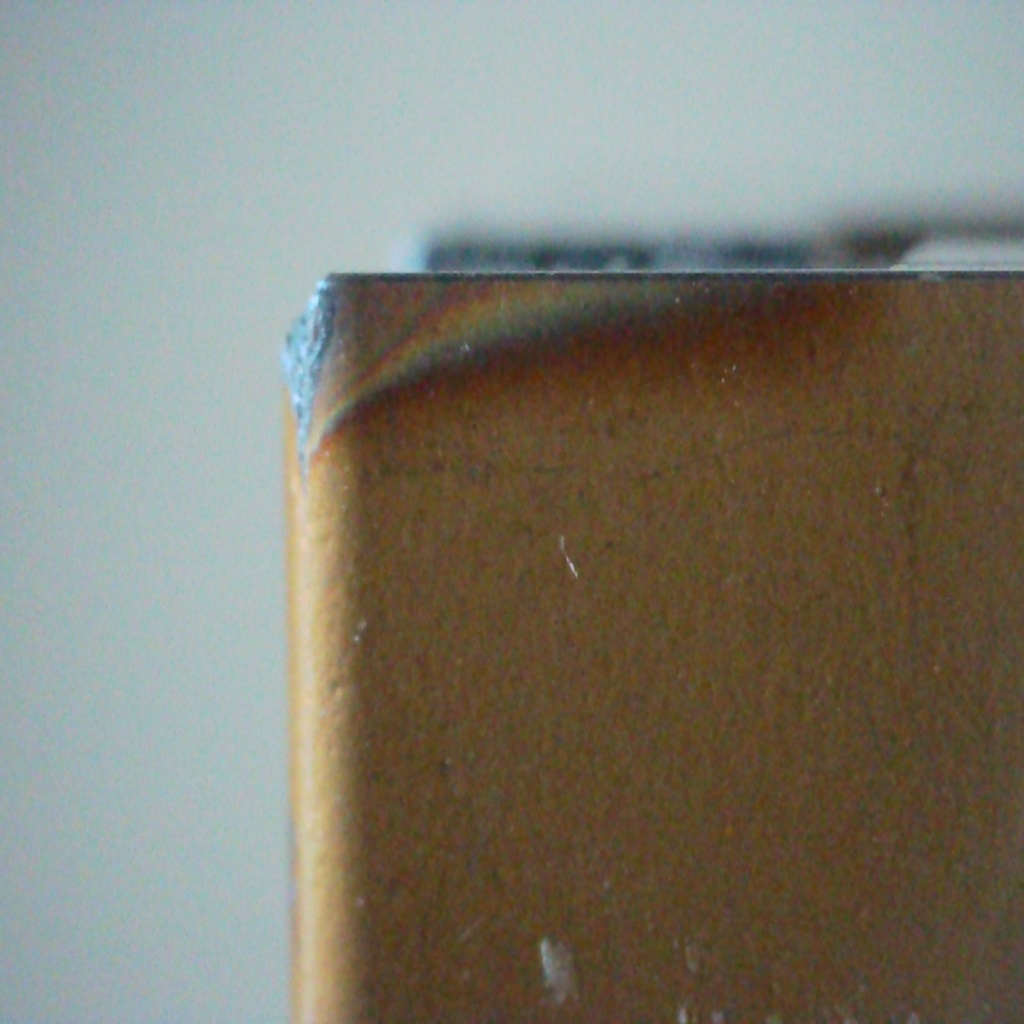flank_wear: (263, 264, 360, 499)
